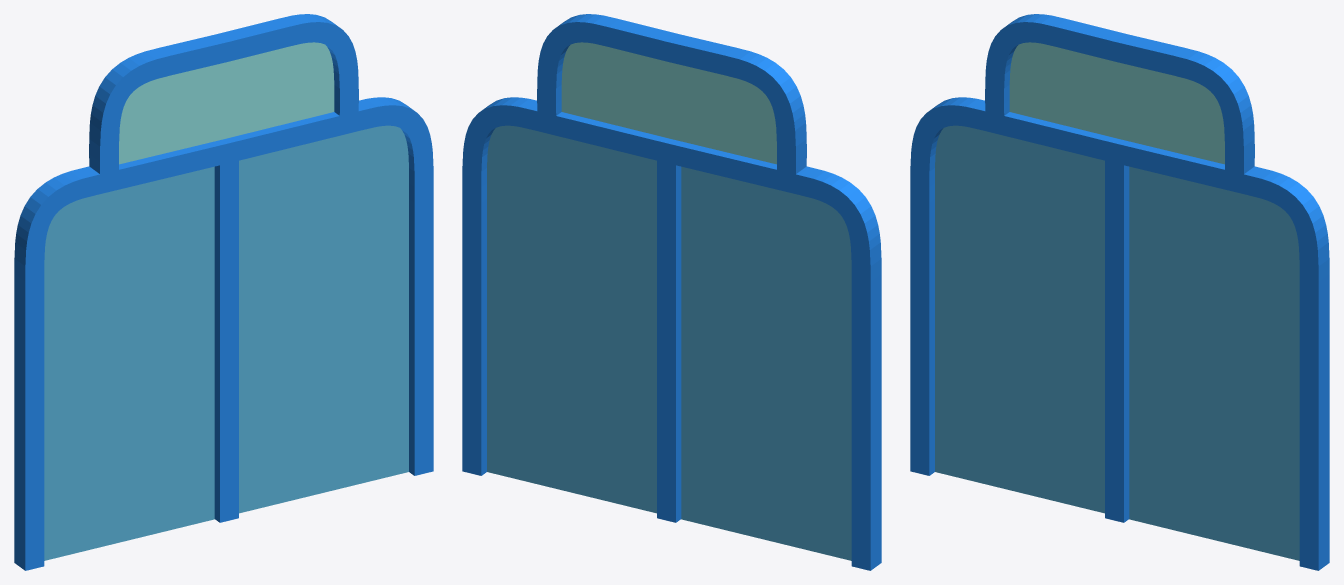
The model's file is Door (2).fbx.
The picture shows the model from 3 angles, left to right: view 1: azimuth 30°, elevation 25°; view 2: azimuth 150°, elevation 25°; view 3: azimuth 330°, elevation 25°; orthographic projection.
Visible parts, largest first — view 1: Door, Plane.002, Plane.001; view 2: Door, Plane.002, Plane.001; view 3: Door, Plane.001, Plane.002.
Boxes of the visible parts, <box> form: Door: <box>14,14,433,570</box>; Plane.002: <box>44,166,214,560</box>; Plane.001: <box>239,125,408,513</box>; Door: <box>462,14,881,570</box>; Plane.002: <box>681,166,851,560</box>; Plane.001: <box>487,125,656,513</box>; Door: <box>910,14,1329,570</box>; Plane.001: <box>1129,166,1299,560</box>; Plane.002: <box>935,125,1104,513</box>.
Size of the model in its own units: 860 by 966 by 40.
